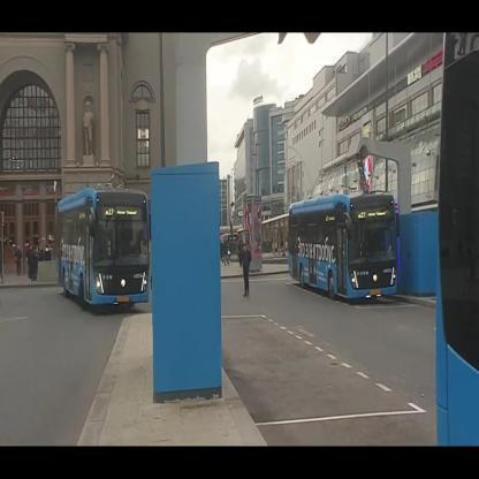bus: (288, 193, 398, 305), (56, 187, 151, 312)
